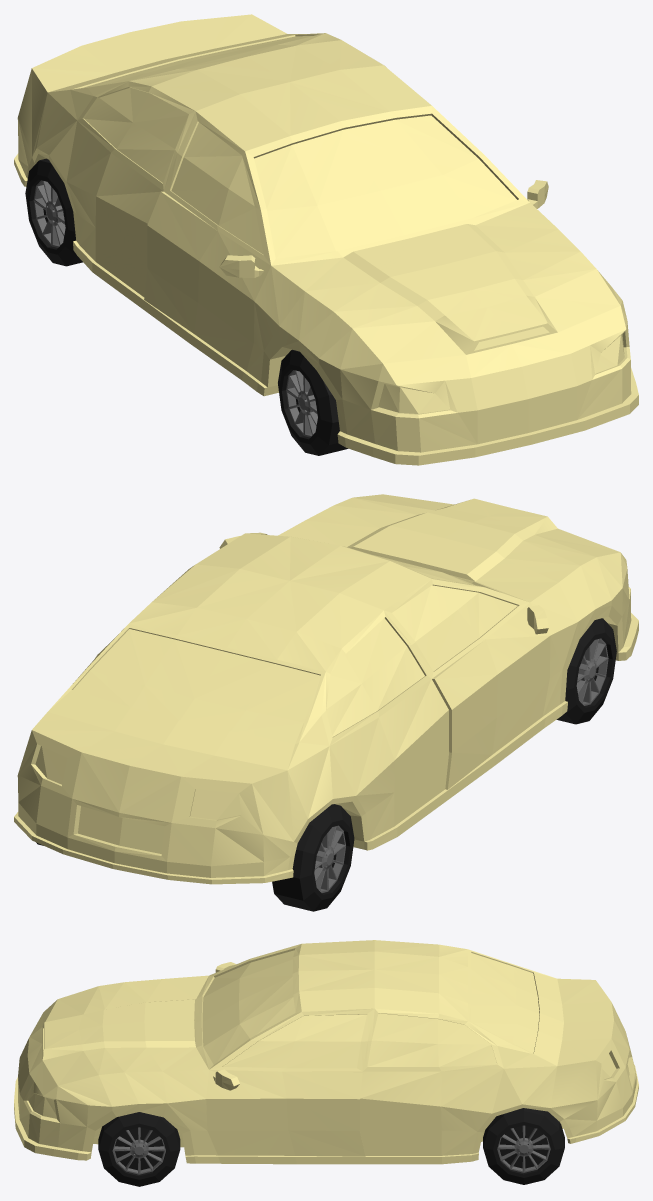
Rendered from molniya.glb.
3 renders of one model, top to bottom at view 1: azimuth 30°, elevation 25°; view 2: azimuth 150°, elevation 25°; view 3: azimuth 270°, elevation 25°, orthographic. The views are drawn at different scales.
Parts seen in each view (by area): view 1: body, wheel-front-right, wheel-back; view 2: body, wheel-back, wheel-front-right; view 3: body, wheel-back, wheel-front-left.
Part boxes in pixels (bbox=[...]): body: bbox=[14, 14, 638, 465]; wheel-front-right: bbox=[278, 349, 348, 455]; wheel-back: bbox=[25, 158, 82, 266]; body: bbox=[14, 494, 638, 884]; wheel-back: bbox=[36, 804, 354, 911]; wheel-front-right: bbox=[556, 618, 616, 724]; body: bbox=[14, 940, 638, 1164]; wheel-back: bbox=[483, 1108, 564, 1184]; wheel-front-left: bbox=[98, 1112, 180, 1186].
Size of the model in its own units: 1.39 by 0.8879 by 3.05.
